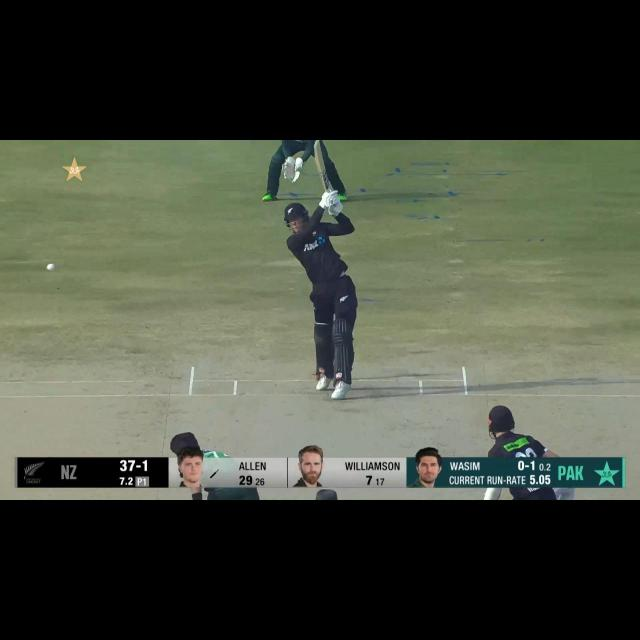bat: (312, 141, 333, 192)
toe: (314, 140, 321, 152)
